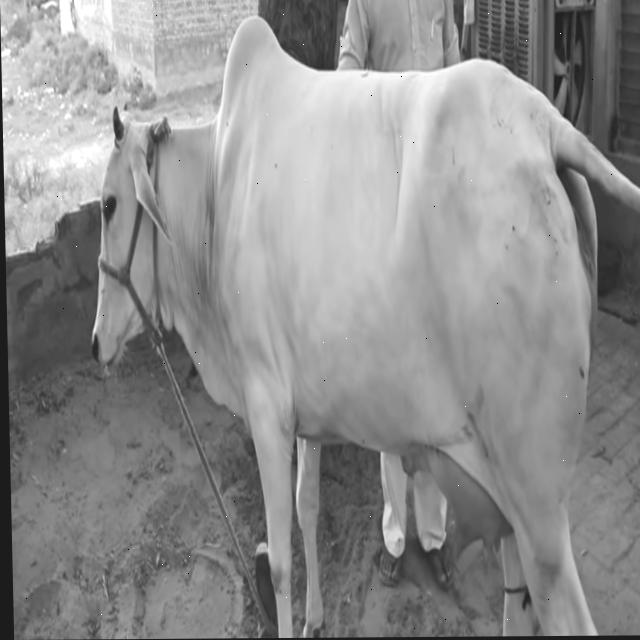Cow: (83, 13, 640, 639)
